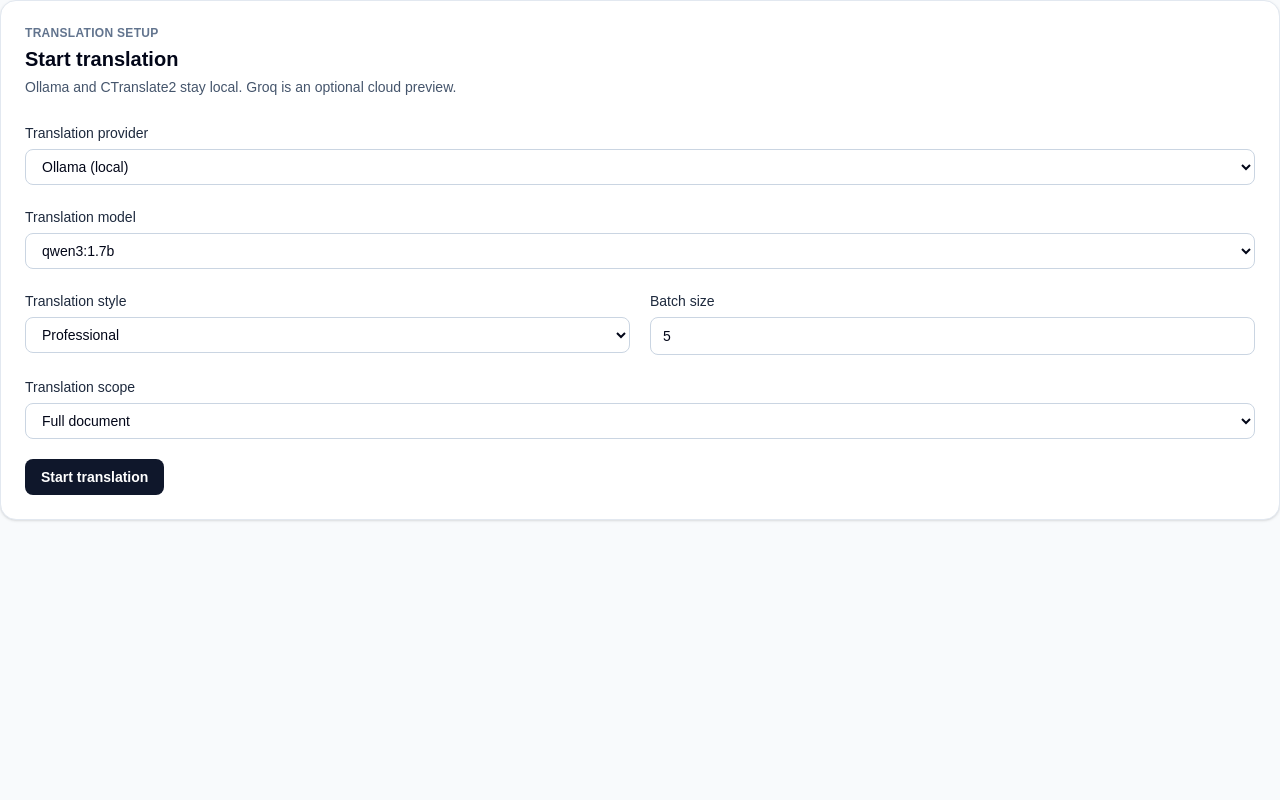
Test case: translation settings › shows readiness blockers and does not start when the project is not ready
Click the button "Start translation" at (95, 477), box [25,459,164,495]
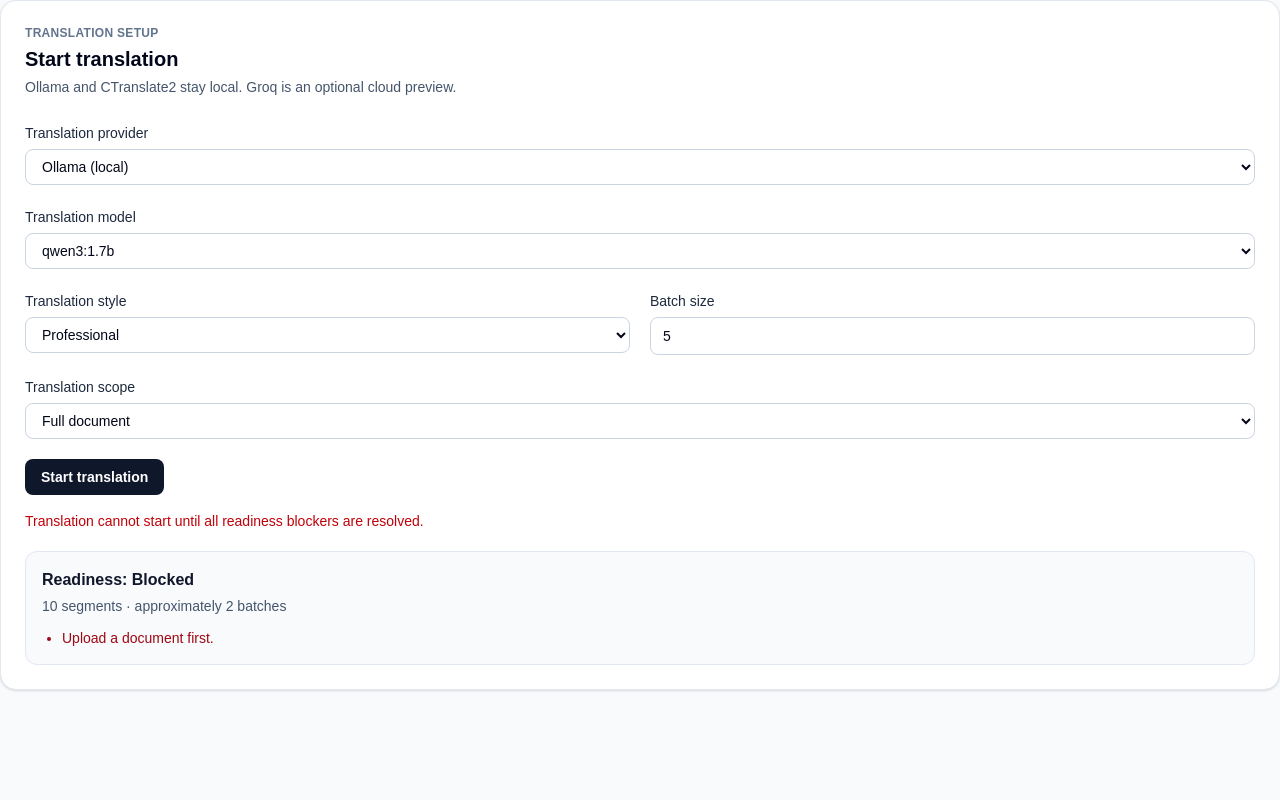
expect the text "Translation cannot start until all readiness blockers are resolved." is shown: met, box [25,513,424,529]
expect the list item "Upload a document first." is shown: met, box [62,630,214,646]
